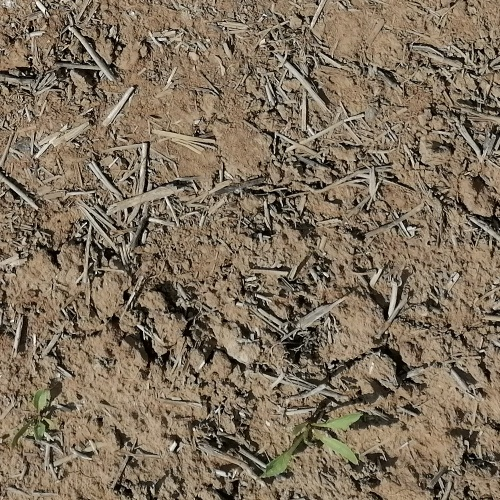beet: (259, 411, 363, 479), (11, 388, 51, 448)
